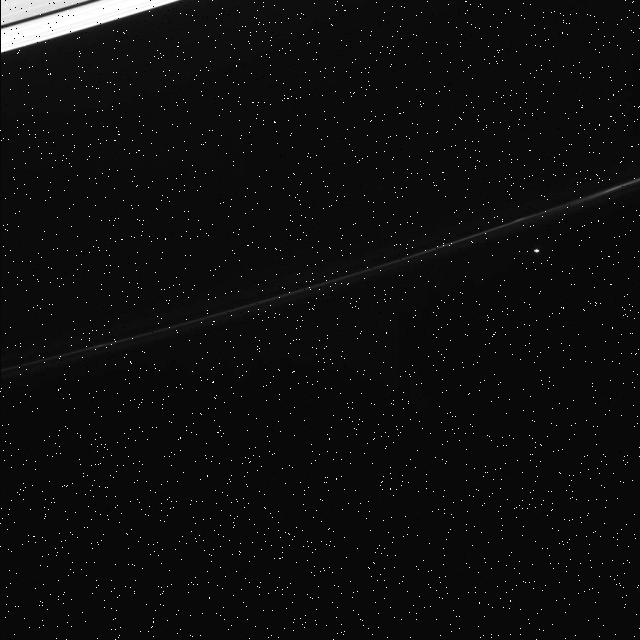Saturn: (0, 0, 305, 59)
